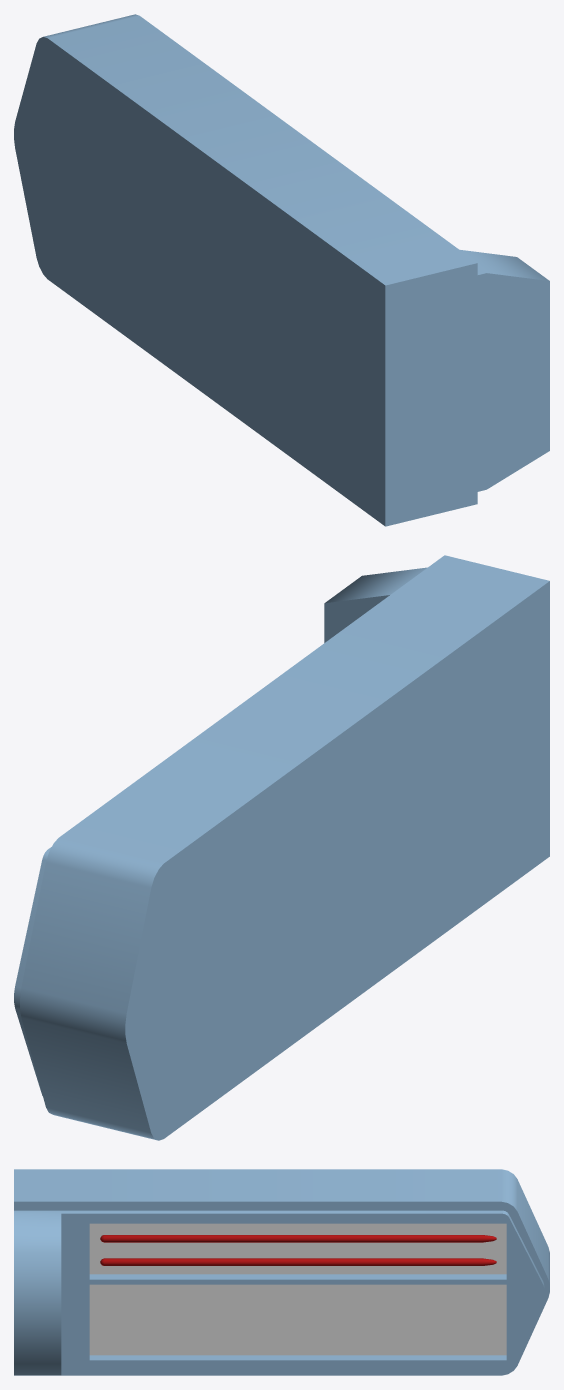
The model's file is ГПМ.fbx.
The picture shows the model from 3 angles, top to bottom: view 1: azimuth 30°, elevation 25°; view 2: azimuth 150°, elevation 25°; view 3: azimuth 270°, elevation 25°; orthographic projection. The views are drawn at different scales.
Parts seen in each view (by area): view 1: Cube; view 2: Cube; view 3: Cube.
Boxes of the visible parts, x1,y1,x2,y2 form: Cube: (14, 14, 549, 526); Cube: (14, 555, 549, 1140); Cube: (14, 1169, 549, 1375).
Bounding box in the file's own units: 8.93 × 12.5 × 34.91.
